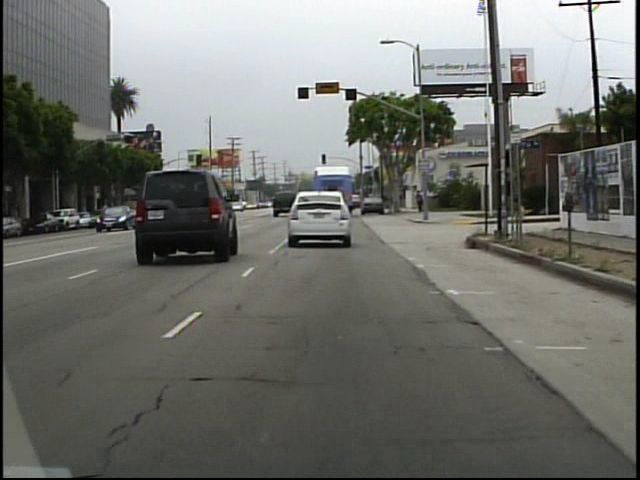person: (414, 189, 424, 214), (420, 187, 428, 213)
